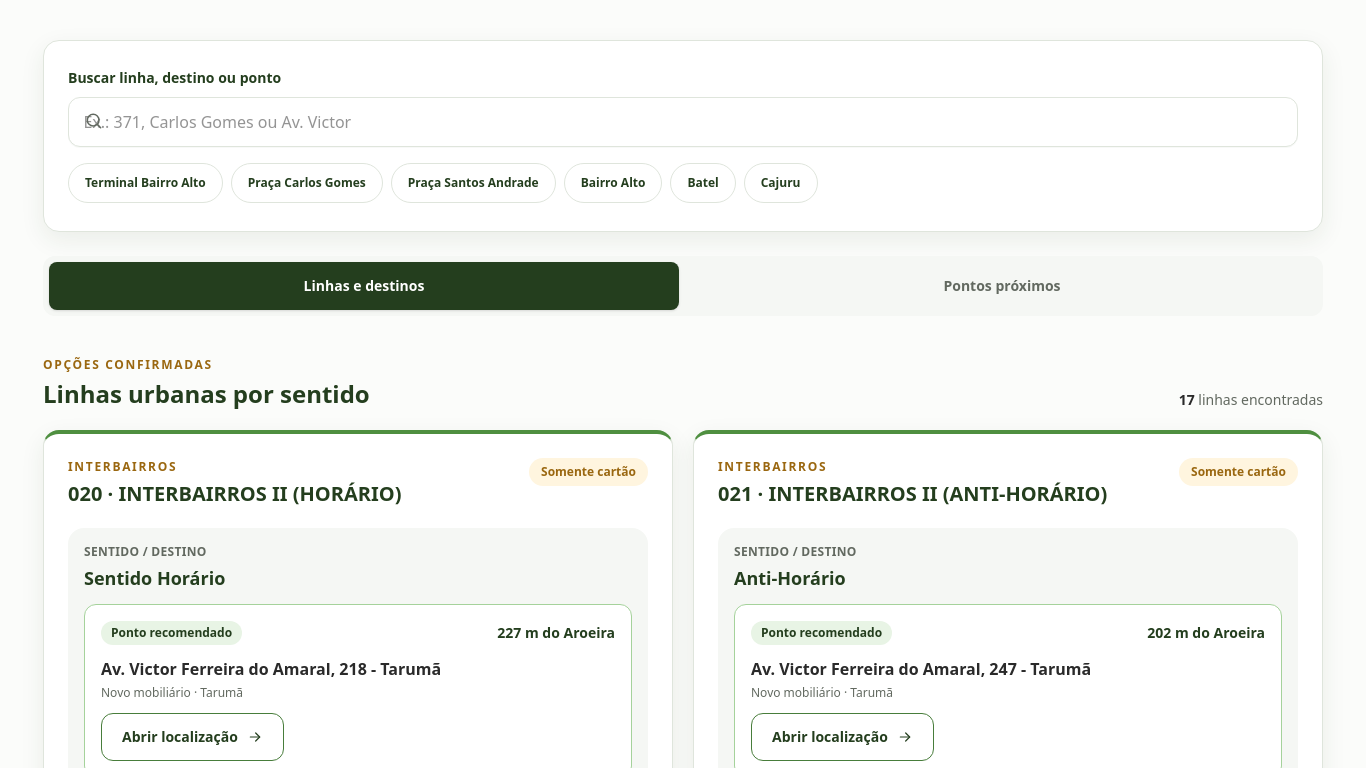
Test: TransitExplorer › busca linhas por destino
Type "Cajuru" into the search field labelled "Buscar linha, destino ou ponto".
click(683, 122); type("Cajuru")  # box [68,97,1298,147]
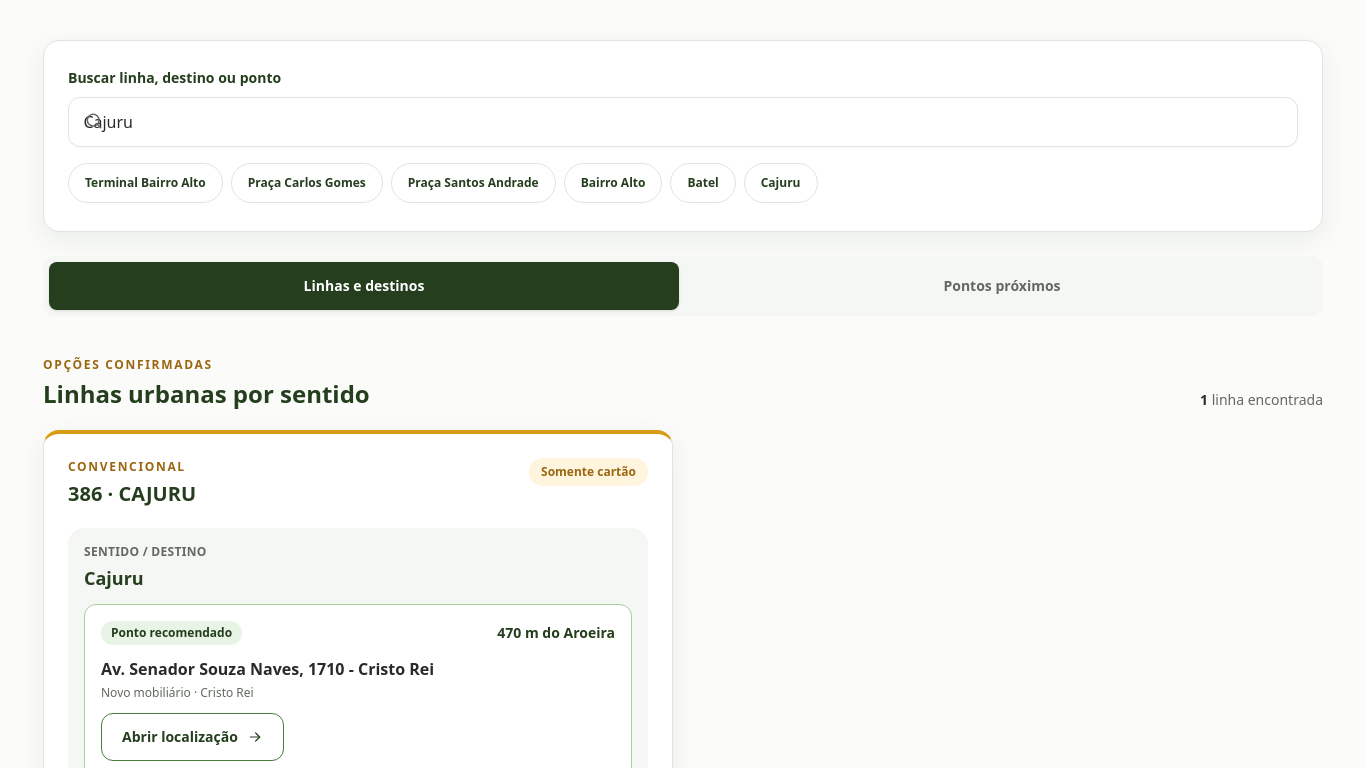
Expected: the heading "386 · CAJURU" is shown, [68,480,196,508]
Expected: the message reads "1 linha encontrada", [1200,390,1323,410]
